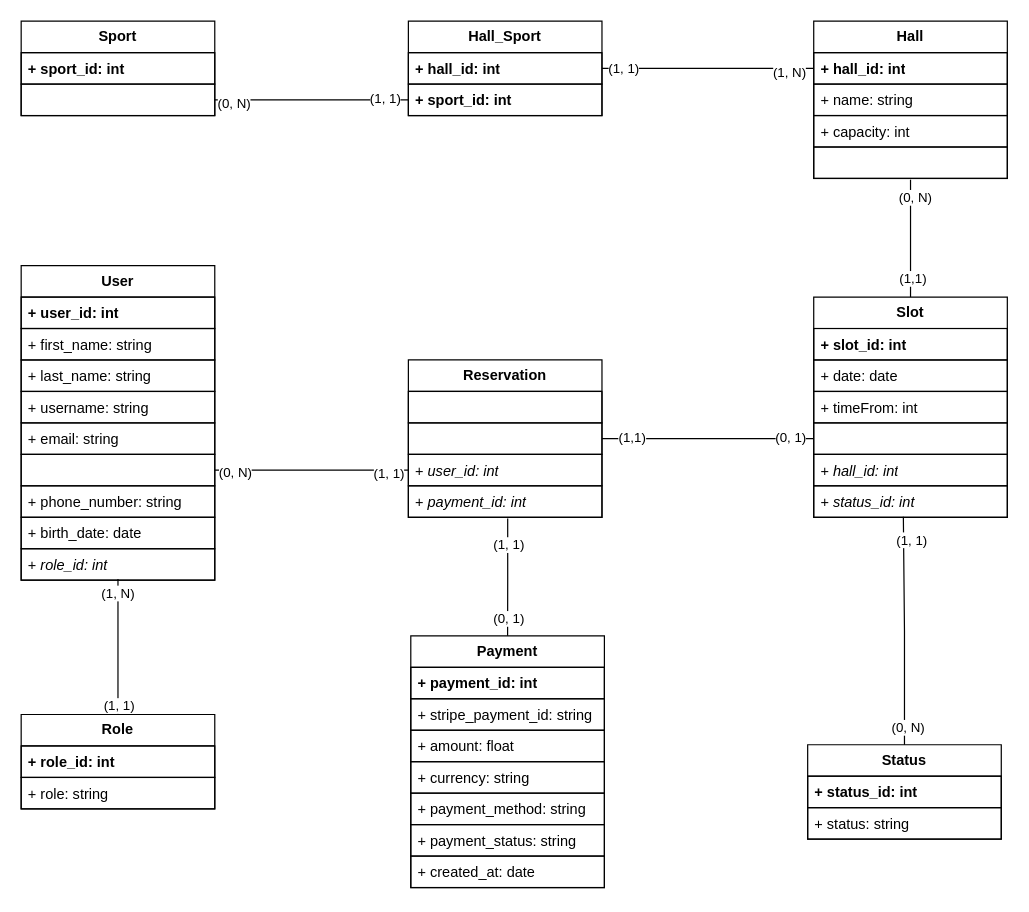
Some shapes in this 1029 by 912 pixel diagram are drawn without their labels. The shapes that lost their labels are listed below. From the top down, each one's centre as x and y in pixels, then its label:
At pixel 117 99: "+ sport: string".
At pixel 910 162: "+ description: string".
At pixel 504 406: "+ reservation_id: int".
At pixel 504 438: "+ slot _id: int".
At pixel 910 438: "+ timeTo: string".
At pixel 117 469: "+ password: string".
